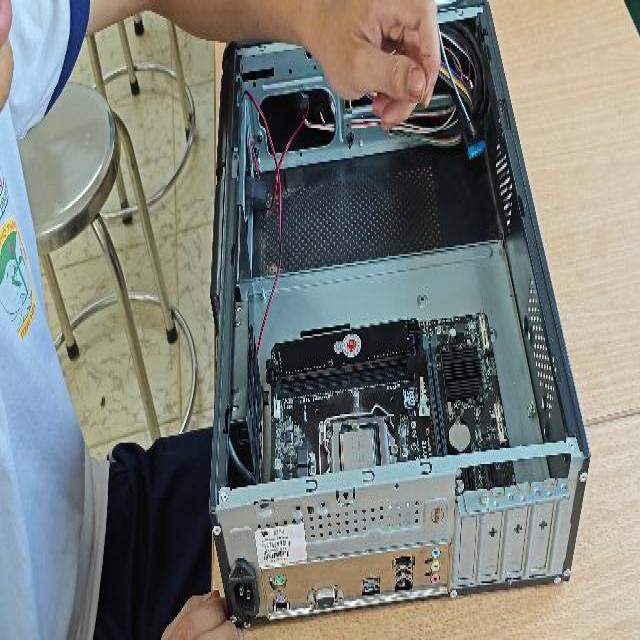CPU: (332, 420, 384, 474)
Mainboard: (266, 360, 518, 486)
RAM: (269, 311, 424, 382)
